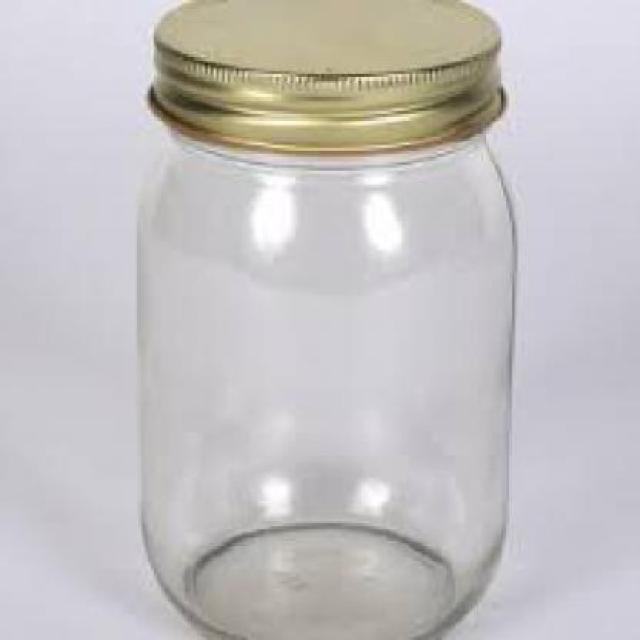kaca: (137, 114, 515, 637)
